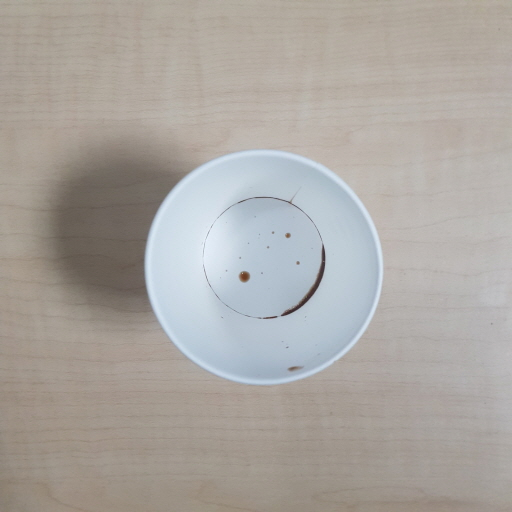Paper_1: (143, 148, 385, 388)
